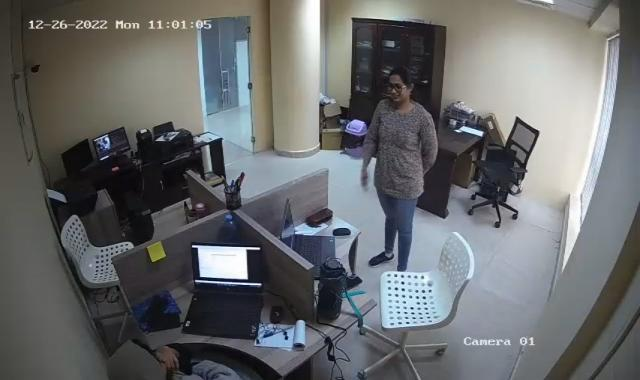no_hairnet: (105, 338, 155, 380), (385, 66, 414, 104)
